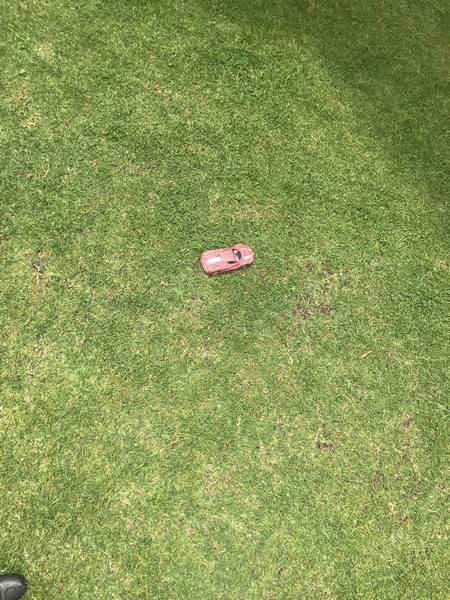RC: (199, 241, 256, 277)
